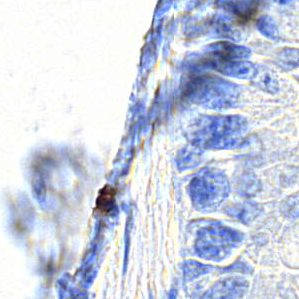Lymphocyte: (93, 182, 119, 211)
